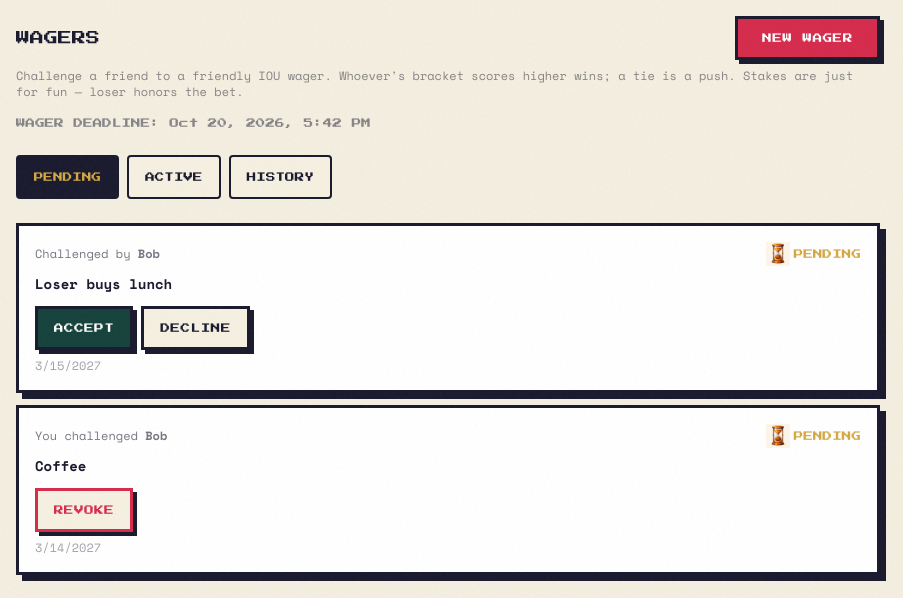
WagersClient › accepts an incoming wager with the user's bracket and moves it to ACTIVE
The image size is (903, 598).
Click the button "Accept" at x=84, y=328, box [35,306,134,350]
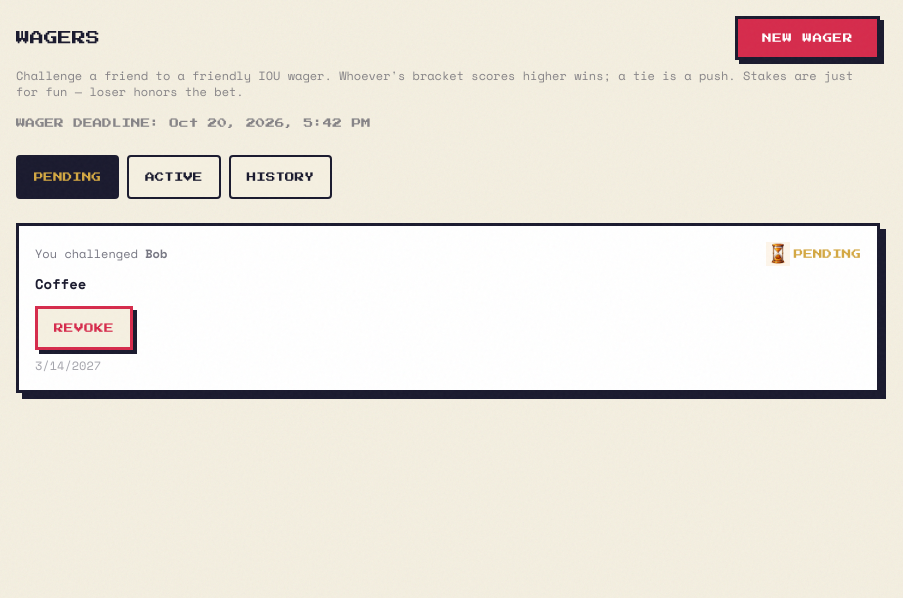
Expected: the text "Loser buys lunch" is gone
Click the tab "ACTIVE" at x=174, y=177, box [127,155,221,199]
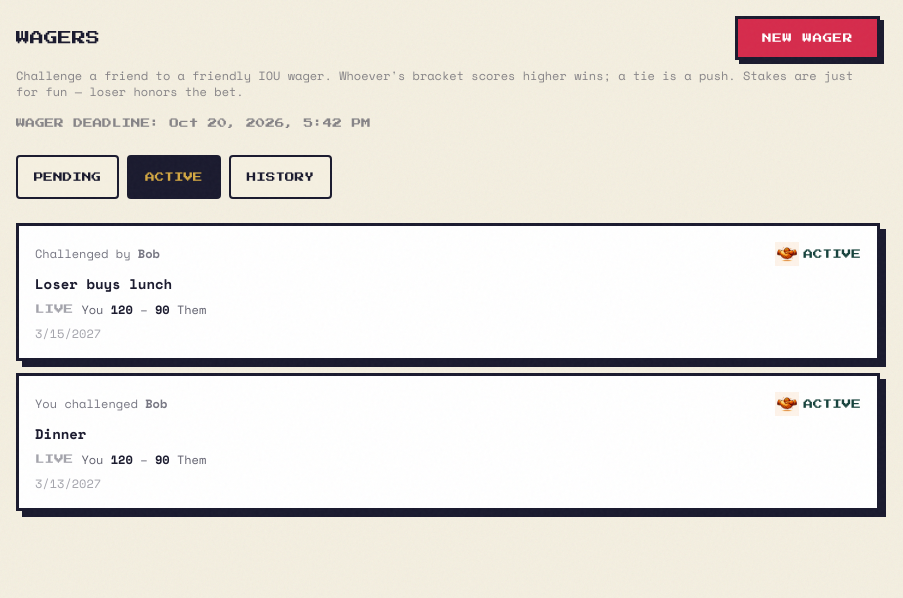
Expected: the text "Loser buys lunch" is shown, [35,273,172,294]
